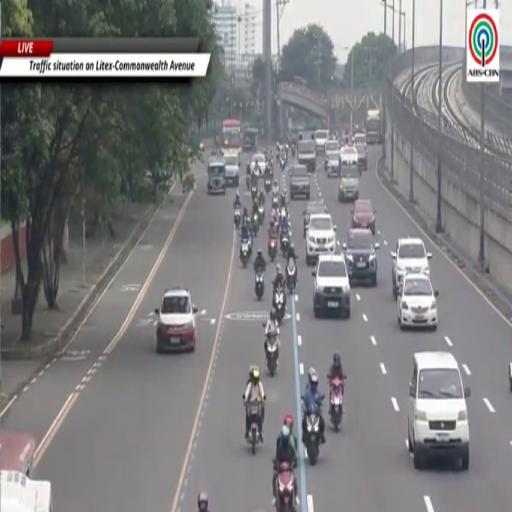bus: (221, 120, 242, 154)
car: (408, 351, 470, 470), (155, 286, 197, 353), (391, 237, 432, 298), (312, 254, 350, 317), (397, 274, 438, 330), (0, 471, 53, 511), (343, 229, 379, 286), (0, 429, 35, 475), (306, 213, 336, 265), (339, 157, 359, 202), (351, 199, 375, 235), (303, 201, 326, 237), (207, 155, 226, 195), (290, 165, 310, 200), (340, 146, 361, 175), (298, 140, 316, 172), (225, 152, 239, 186), (325, 138, 339, 169), (325, 153, 340, 177), (314, 130, 329, 154), (250, 153, 266, 175), (355, 142, 367, 170), (354, 133, 366, 146)
motorcycle: (276, 462, 296, 512), (303, 408, 320, 466), (330, 377, 343, 431), (248, 402, 260, 454), (266, 335, 278, 376), (273, 286, 285, 325), (286, 259, 296, 294), (240, 240, 250, 267), (255, 271, 264, 299), (280, 232, 289, 257), (268, 238, 277, 262), (252, 213, 259, 235), (234, 208, 241, 229), (264, 177, 272, 194), (258, 204, 264, 225), (251, 184, 257, 200), (272, 195, 278, 210), (246, 174, 251, 190), (280, 157, 285, 170), (509, 362, 511, 392), (291, 146, 295, 157)
truck: (365, 109, 382, 145)
